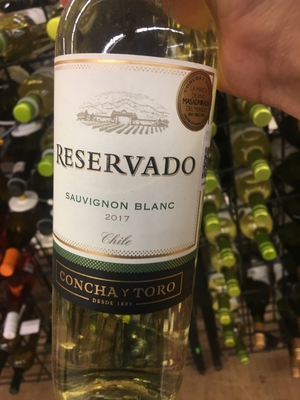reservado sauvignon blanc: (48, 6, 220, 390)
